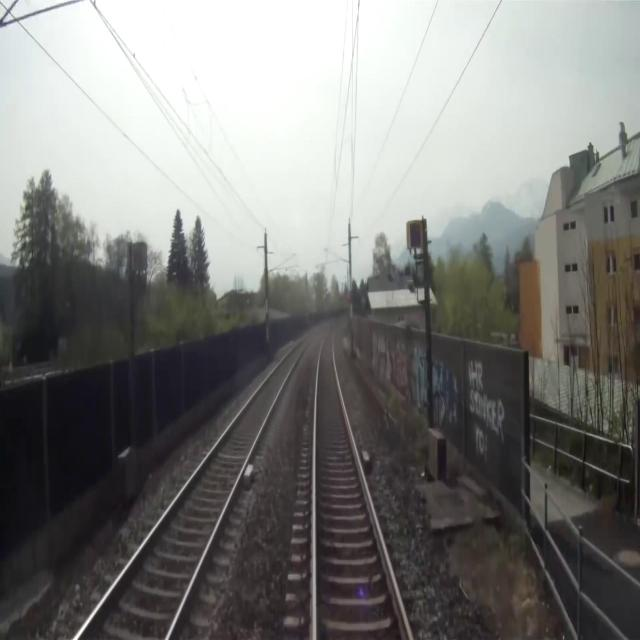rail-track: (78, 322, 323, 639), (317, 328, 409, 639)
